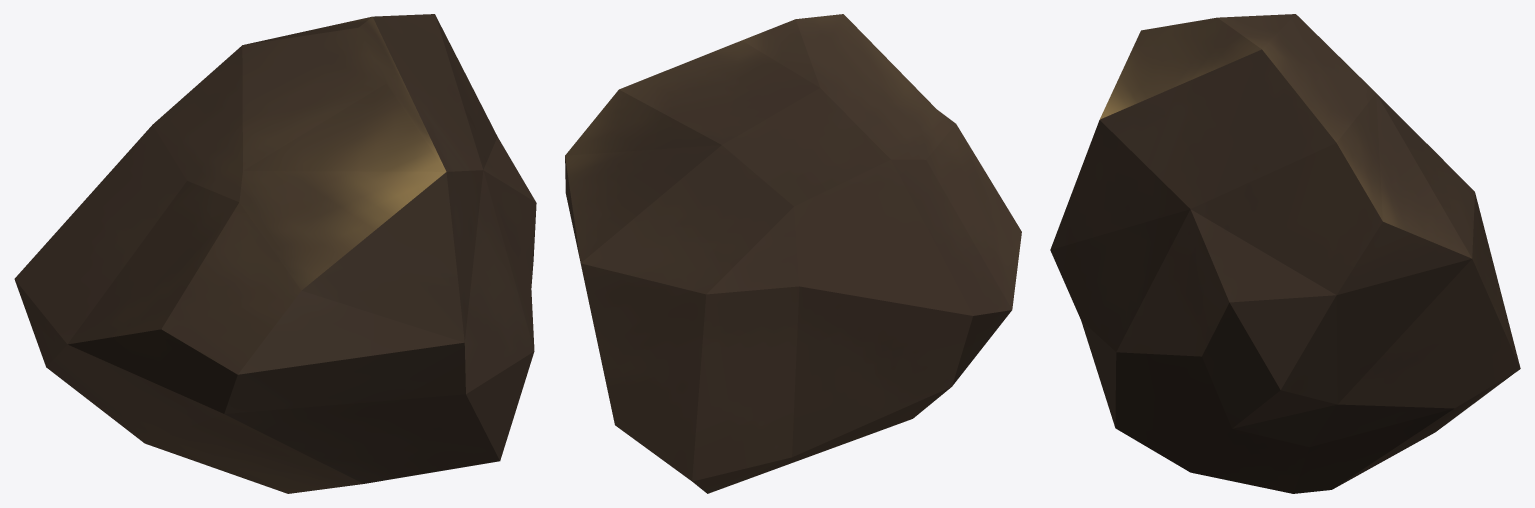
File: Projectile3.FBX
3 views of the same model, side by side, from view 1: azimuth 30°, elevation 25°; view 2: azimuth 150°, elevation 25°; view 3: azimuth 270°, elevation 25° (orthographic). The views are drawn at different scales.
Parts seen in each view (by area): view 1: Projectile3; view 2: Projectile3; view 3: Projectile3.
Boxes of the visible parts, bbox=[...] form: Projectile3: bbox=[14, 14, 536, 493]; Projectile3: bbox=[565, 14, 1021, 493]; Projectile3: bbox=[1050, 14, 1520, 493].
Bounding box in the file's own units: 0.5465 × 0.533 × 0.5061.
